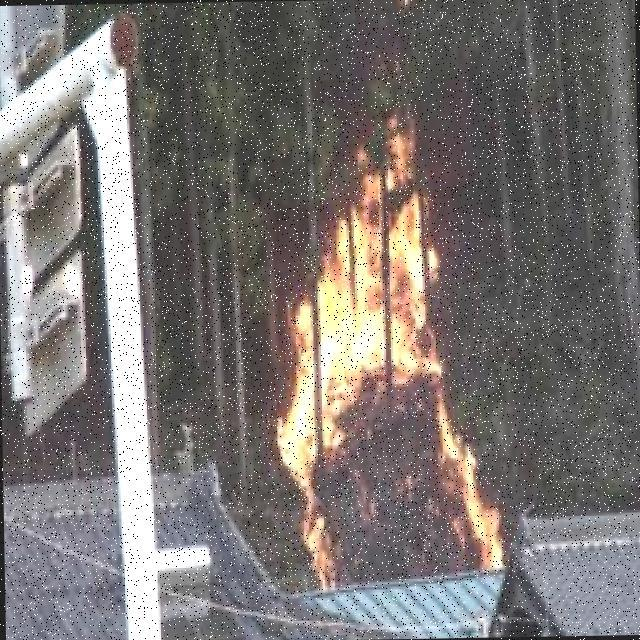Fire: (274, 131, 502, 581)
